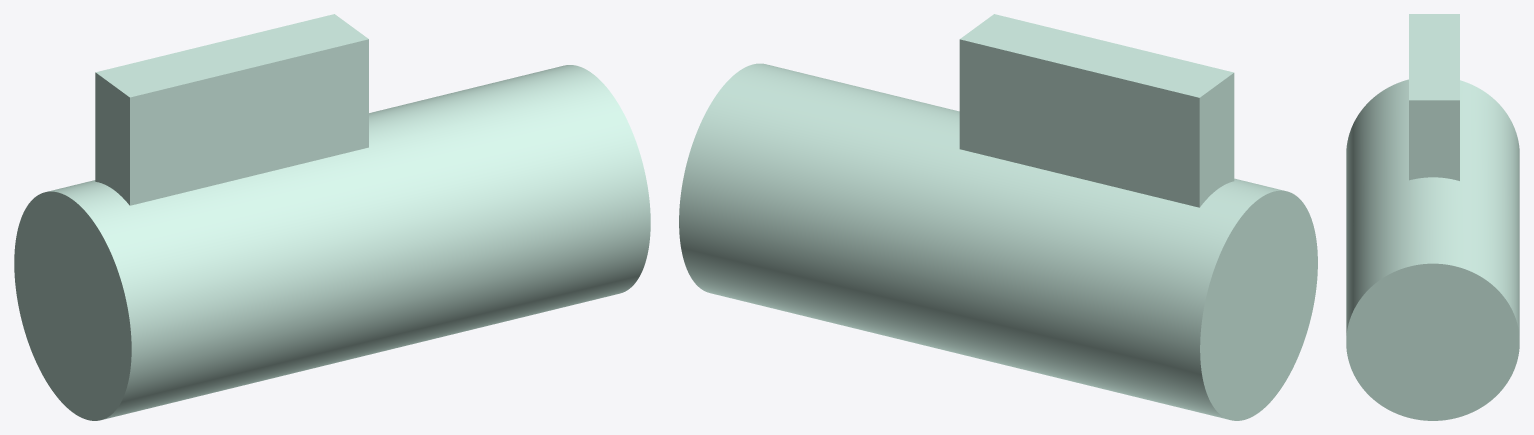
3 renders of one model, left to right at view 1: azimuth 30°, elevation 25°; view 2: azimuth 150°, elevation 25°; view 3: azimuth 270°, elevation 25°, orthographic. The views are drawn at different scales.
Visible parts, largest first — view 1: Renderer Node; view 2: Renderer Node; view 3: Renderer Node.
Part boxes in pixels (left/top/right/bottom): Renderer Node: left=14, top=14, right=650, bottom=420; Renderer Node: left=679, top=14, right=1317, bottom=420; Renderer Node: left=1346, top=14, right=1519, bottom=420.
Bounding box in the file's own units: 1.39 × 0.8114 × 0.5447.
